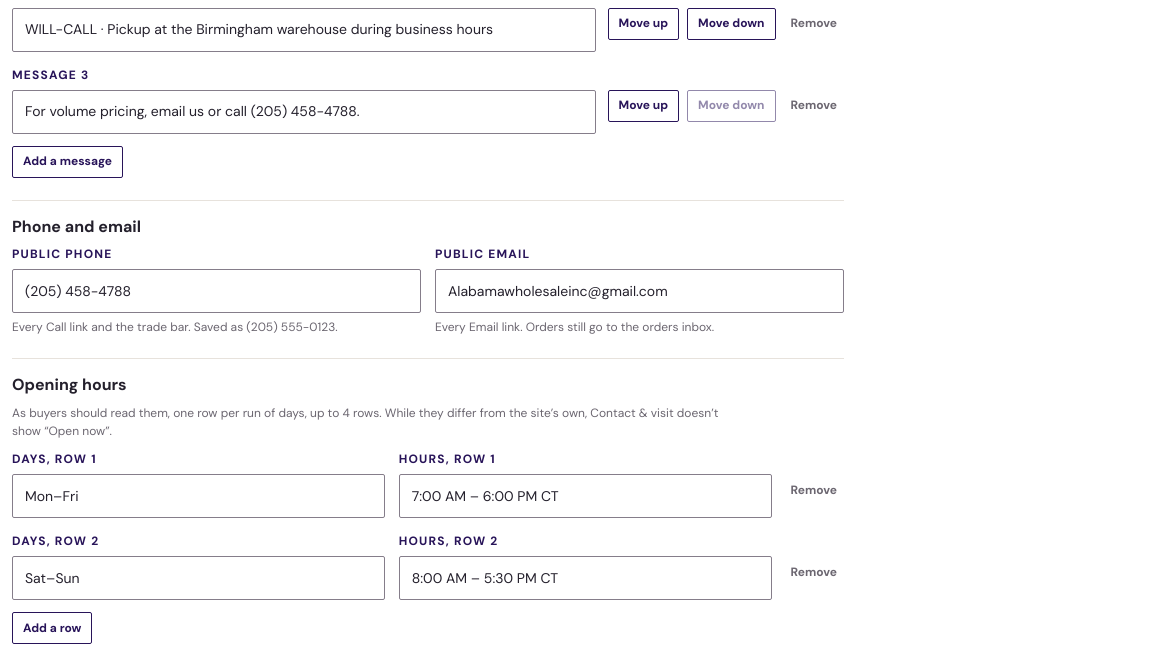
Admin -> Site settings (AW-030) › says a refused save in staff wording
The image size is (1164, 651).
(page scrolled)
Replace the text in the field labelled "Public email" with "desk@example.test" at [640, 292], box [435, 270, 844, 314]
(page scrolled)
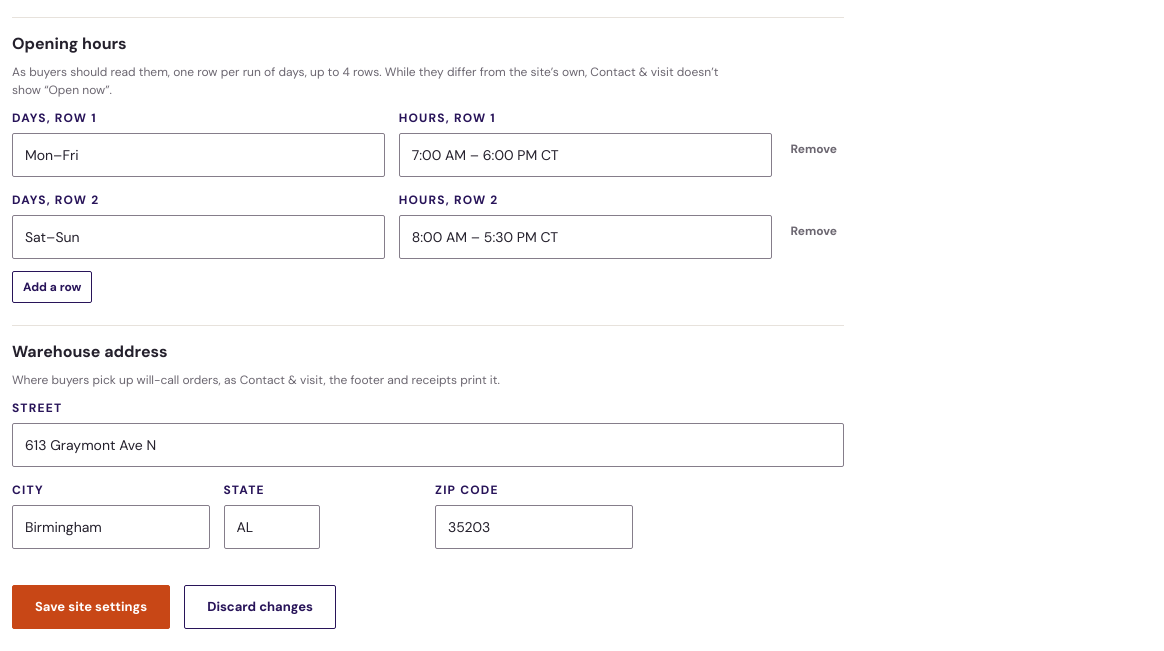
Click the button "Save site settings" at [91, 607], box [12, 585, 170, 629]
(page scrolled)
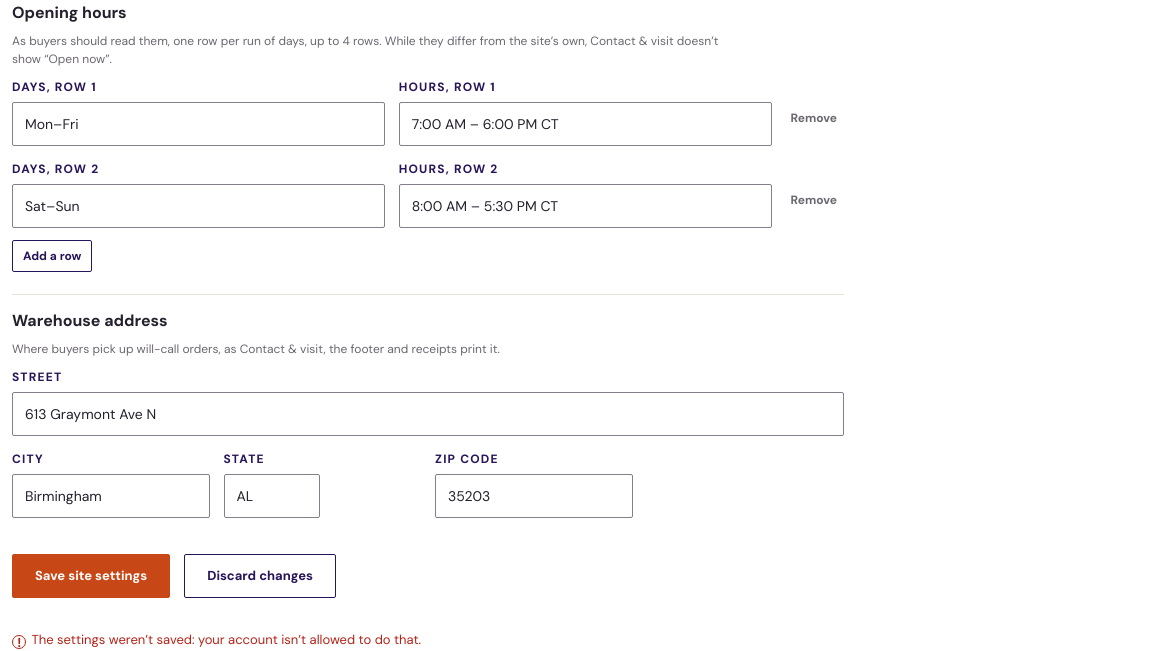
Result: the message reads "The settings weren’t saved: your account isn’t allowed to do that." at [32, 631, 421, 648]
